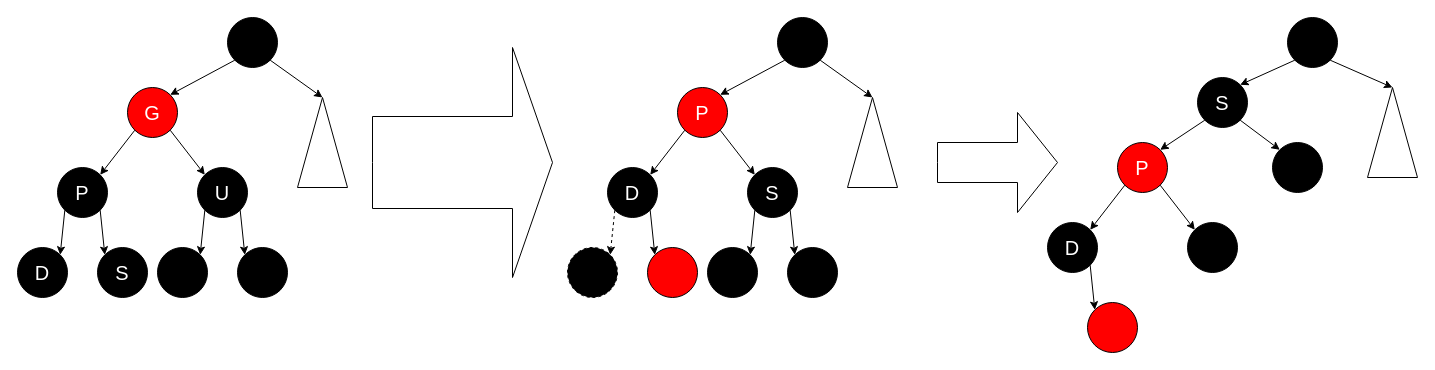
Some shapes in this 1435 by 370 pixel diagram are drawn without their labels. The shapes that lost their labels are listed below. From the top down, each one's centre as x and y in pixels, then its label:
At point 462,162: "删除D，S变红色， 将原来的P节点设 置为D，进行新一 轮判断".
At point 997,162: "P向左旋转".
